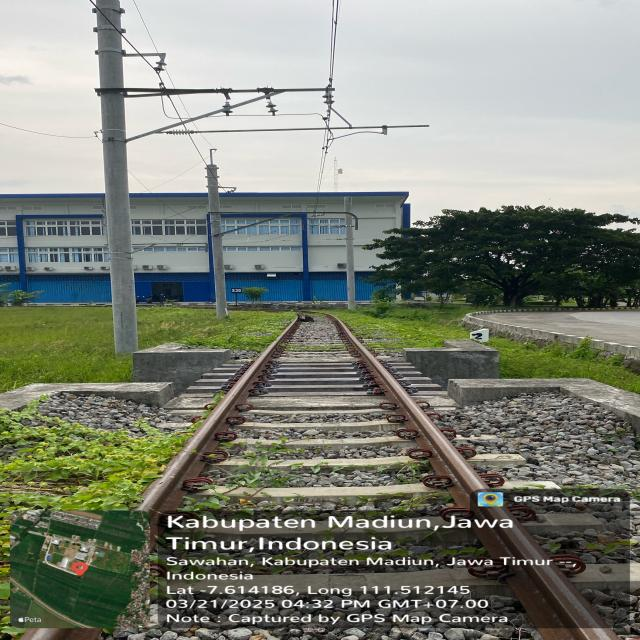rail-detection: (328, 316, 618, 640), (140, 316, 300, 549)
